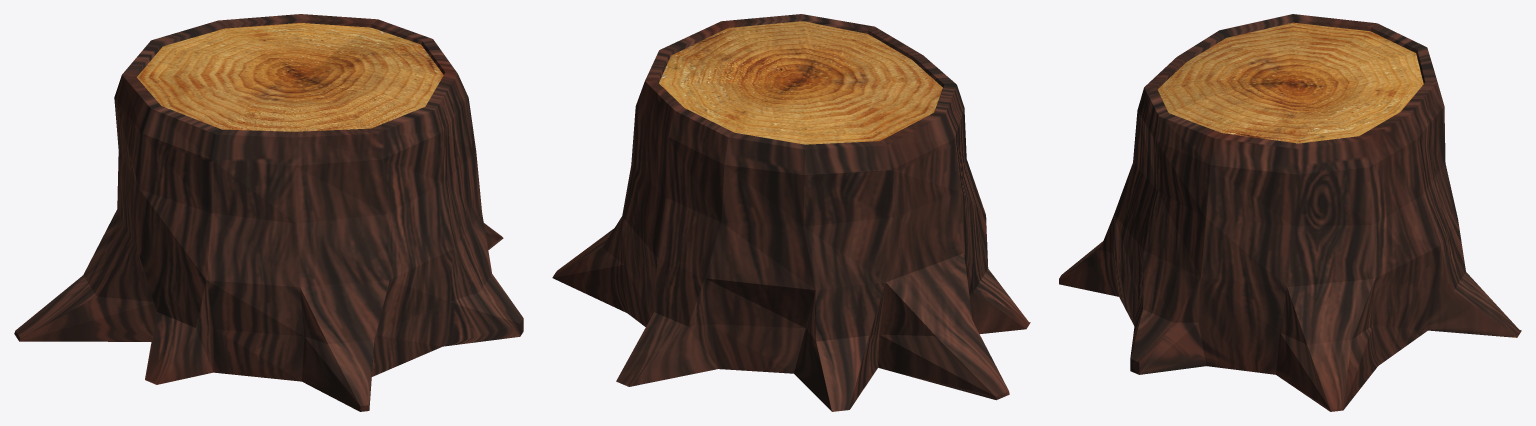
Rendered from treeStump.gltf.
The picture shows the model from 3 angles, left to right: view 1: azimuth 30°, elevation 25°; view 2: azimuth 150°, elevation 25°; view 3: azimuth 270°, elevation 25°; orthographic projection. The views are drawn at different scales.
Visible parts, largest first — view 1: node-0; view 2: node-0; view 3: node-0.
Part boxes in pixels (x1,y1,x2,y2): node-0: (14,14,523,411); node-0: (552,14,1030,411); node-0: (1059,14,1521,411).
Size of the model in its own units: 8.03 by 3.97 by 7.16.
1 material, 1 textured.
